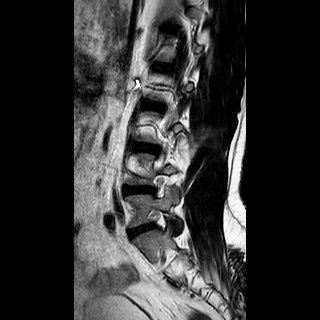RFS0: (144, 202, 174, 237), (145, 170, 174, 201)
